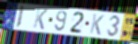2: (68, 11, 86, 35)
3: (106, 15, 122, 38)
9: (54, 11, 68, 32)
I: (15, 5, 26, 30)
K: (32, 7, 49, 31), (89, 13, 106, 37)
